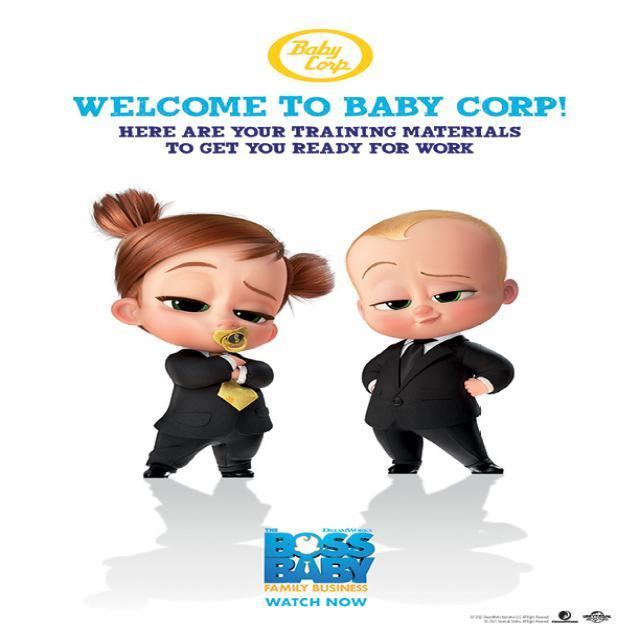non-dog: (87, 188, 336, 480), (338, 197, 538, 484)
